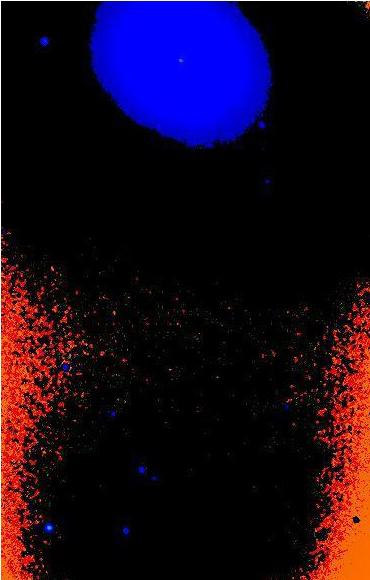star: (125, 0, 155, 26)
